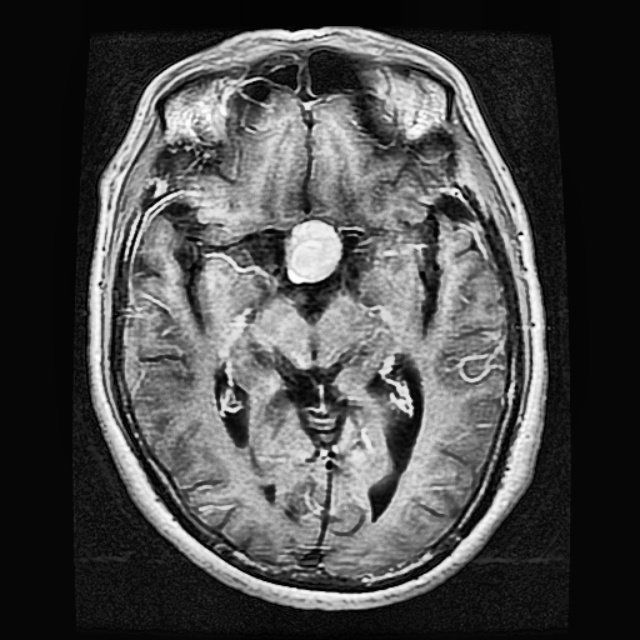Pituitary: (285, 222, 342, 283)
